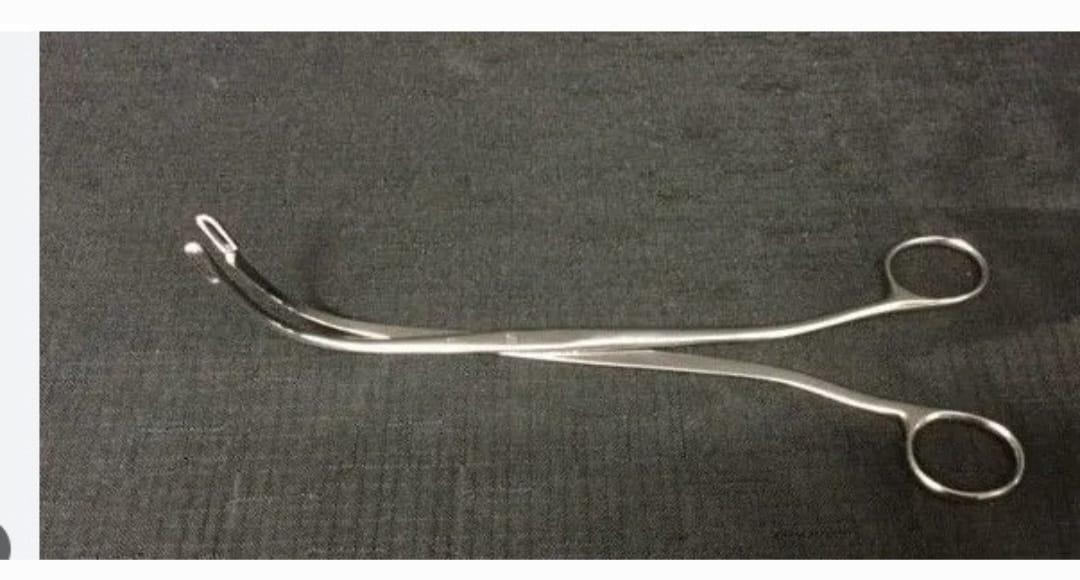Randall: (181, 200, 1033, 512)
